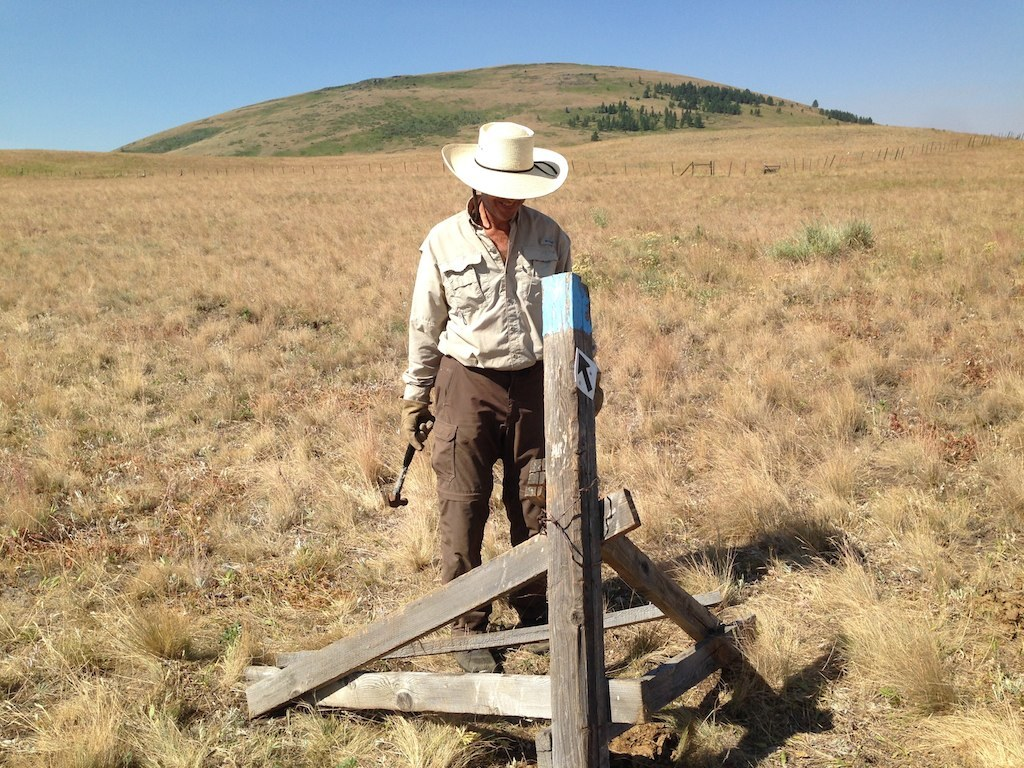Tree: (644, 80, 774, 112), (579, 101, 705, 133), (820, 108, 872, 124)
